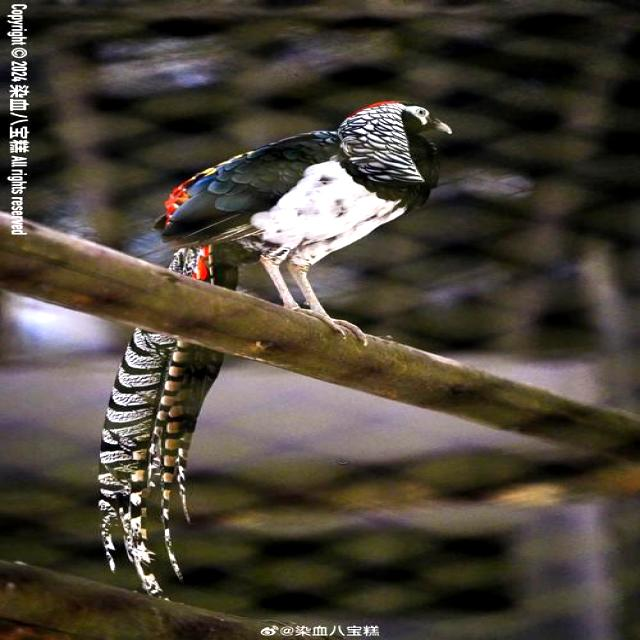Chrysolophus amherstiae: (100, 329, 221, 595), (169, 247, 216, 281)
